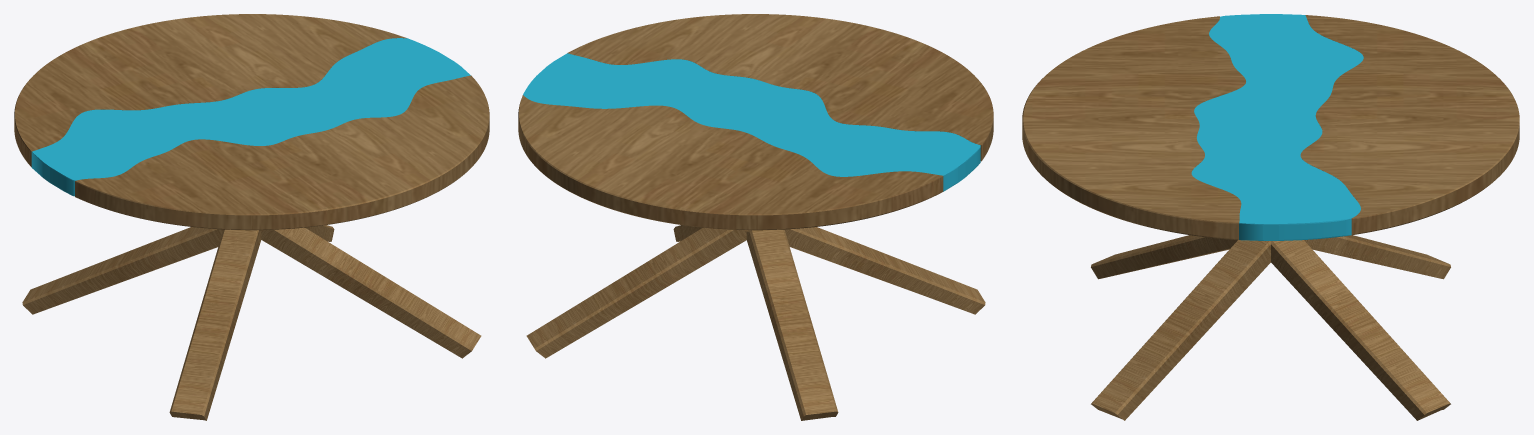
File: round-oak-epoxy-ocean.glb
The picture shows the model from 3 angles, left to right: view 1: azimuth 30°, elevation 25°; view 2: azimuth 150°, elevation 25°; view 3: azimuth 270°, elevation 25°; orthographic projection. The views are drawn at different scales.
Parts seen in each view (by area): view 1: Wood_Round_EpoxyFar, Wood_Round_EpoxyNear, Resin_Round, Base_Round; view 2: Wood_Round_EpoxyNear, Wood_Round_EpoxyFar, Resin_Round, Base_Round; view 3: Wood_Round_EpoxyFar, Wood_Round_EpoxyNear, Resin_Round, Base_Round.
Part boxes in pixels (x1=…): Wood_Round_EpoxyFar: x1=75, y1=75, x2=489, y2=230; Wood_Round_EpoxyNear: x1=14, y1=14, x2=406, y2=166; Resin_Round: x1=31, y1=38, x2=470, y2=196; Base_Round: x1=22, y1=225, x2=481, y2=420; Wood_Round_EpoxyNear: x1=518, y1=95, x2=943, y2=230; Wood_Round_EpoxyFar: x1=567, y1=14, x2=993, y2=161; Resin_Round: x1=523, y1=53, x2=980, y2=191; Base_Round: x1=526, y1=225, x2=985, y2=420; Wood_Round_EpoxyFar: x1=1022, y1=16, x2=1245, y2=239; Wood_Round_EpoxyNear: x1=1300, y1=15, x2=1519, y2=235; Resin_Round: x1=1191, y1=14, x2=1363, y2=240; Base_Round: x1=1091, y1=235, x2=1450, y2=420.
Bounding box in the file's own units: 1.52 × 0.762 × 1.52.
Materials: 2 (1 with a texture image).
